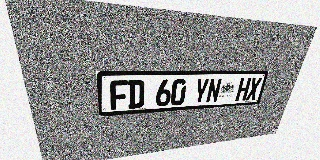0: (170, 79, 187, 106)
6: (155, 79, 172, 107)
D: (128, 80, 145, 109)
F: (110, 80, 127, 110)
H: (235, 78, 252, 101)
N: (205, 78, 222, 103)
X: (245, 77, 262, 100)
Y: (193, 78, 210, 104)
